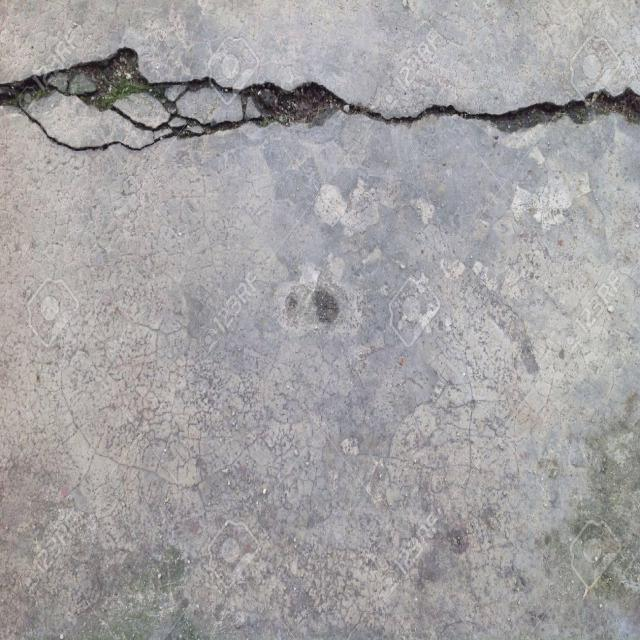concrete spalling: (7, 40, 637, 162)
